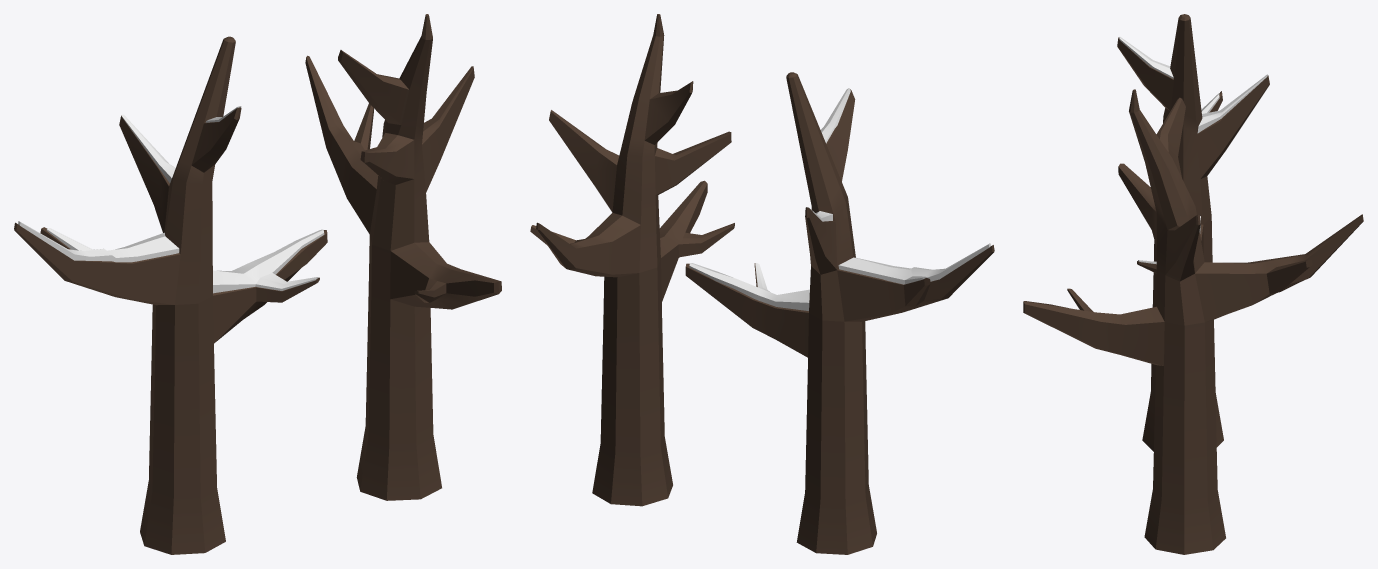
The model's file is DeadTrees.fbx.
The picture shows the model from 3 angles, left to right: view 1: azimuth 30°, elevation 25°; view 2: azimuth 150°, elevation 25°; view 3: azimuth 270°, elevation 25°; orthographic projection. The views are drawn at different scales.
Parts seen in each view (by area): view 1: Deadtree1, Deadtree2, Deadtree3; view 2: Deadtree1, Deadtree2, Deadtree3; view 3: Deadtree1, Deadtree2, Deadtree3.
Boxes of the visible parts, x1,y1,x2,y2 form: Deadtree1: (305,14,501,500); Deadtree2: (14,36,327,554); Deadtree3: (18,106,324,293); Deadtree1: (530,14,734,506); Deadtree2: (685,72,994,554); Deadtree3: (689,88,990,310); Deadtree1: (1023,89,1363,554); Deadtree2: (1117,14,1269,451); Deadtree3: (1119,36,1267,264).
Bounding box in the file's own units: 4.79 × 4.77 × 3.29.
